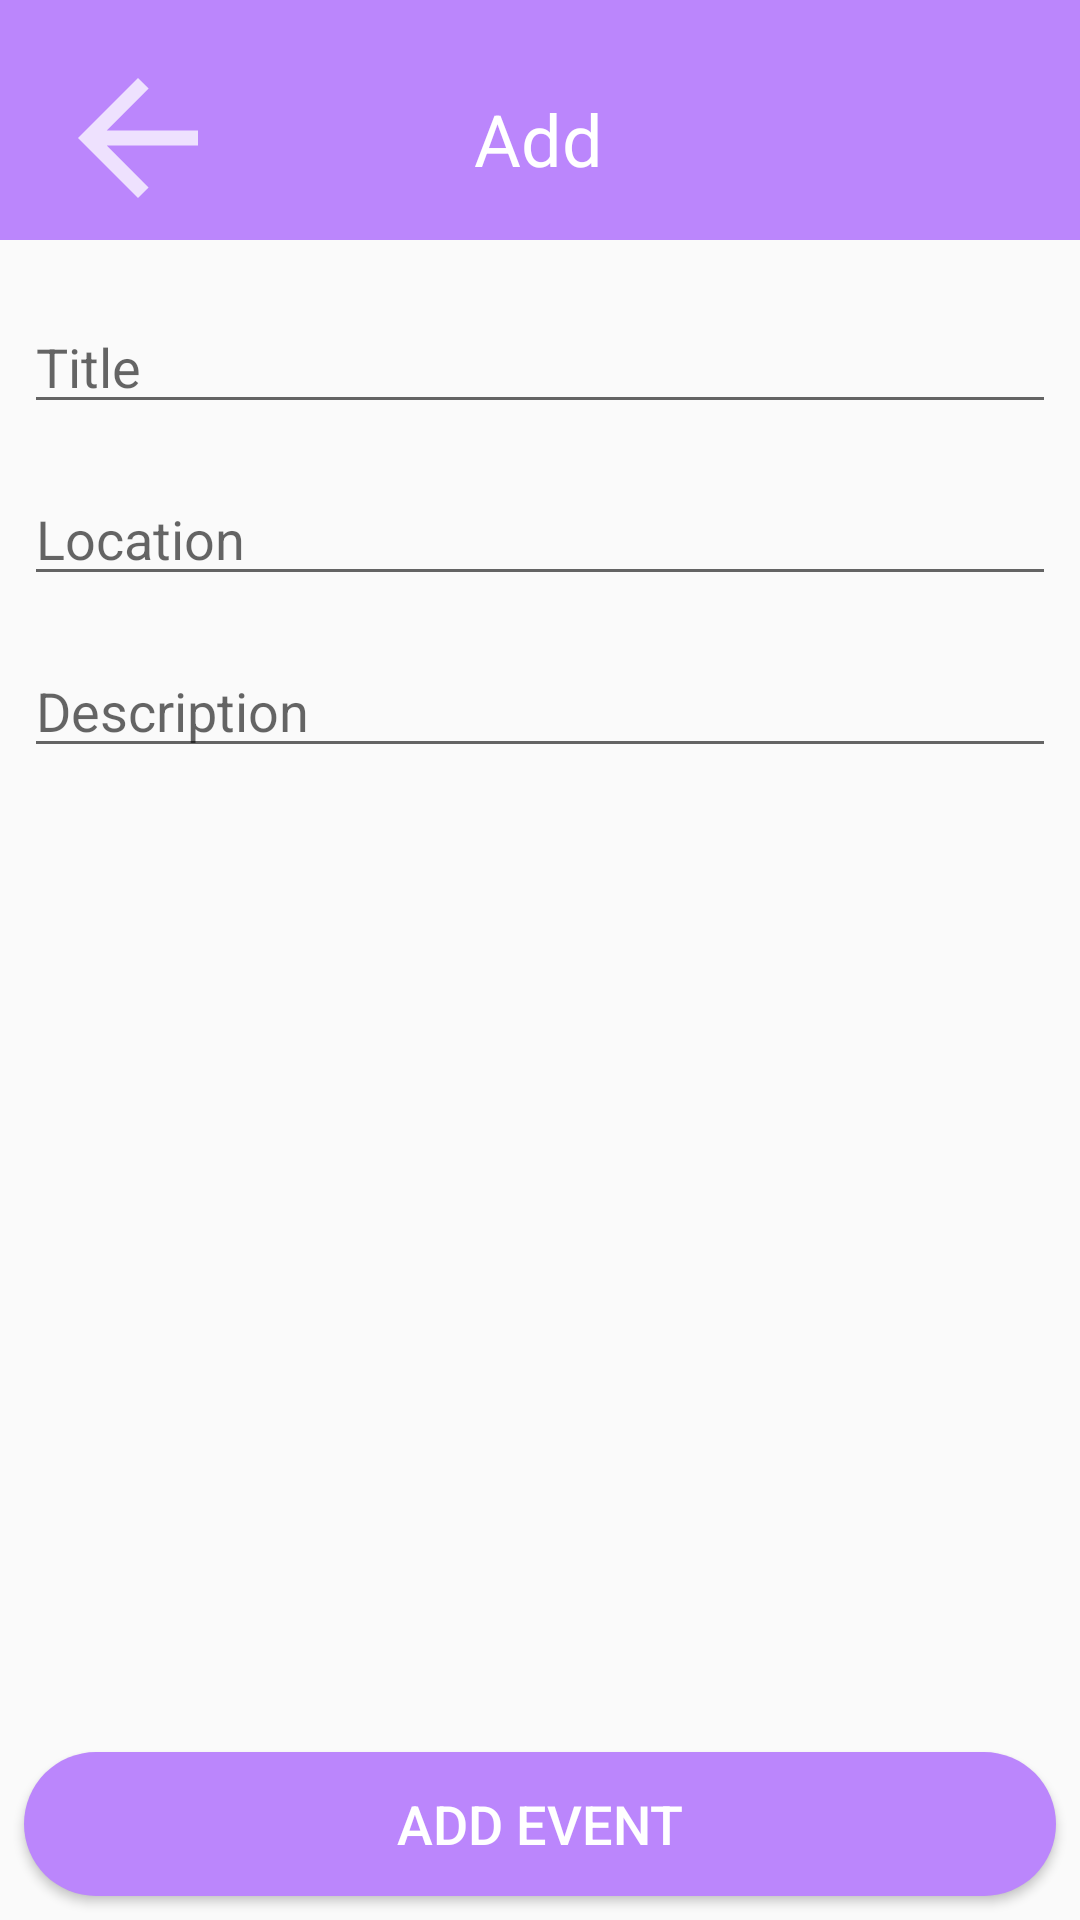

Where icons sit on this 1080px x 1920px app screen, as (x1, y1, x2, y2):
back: (78, 78, 198, 198)
